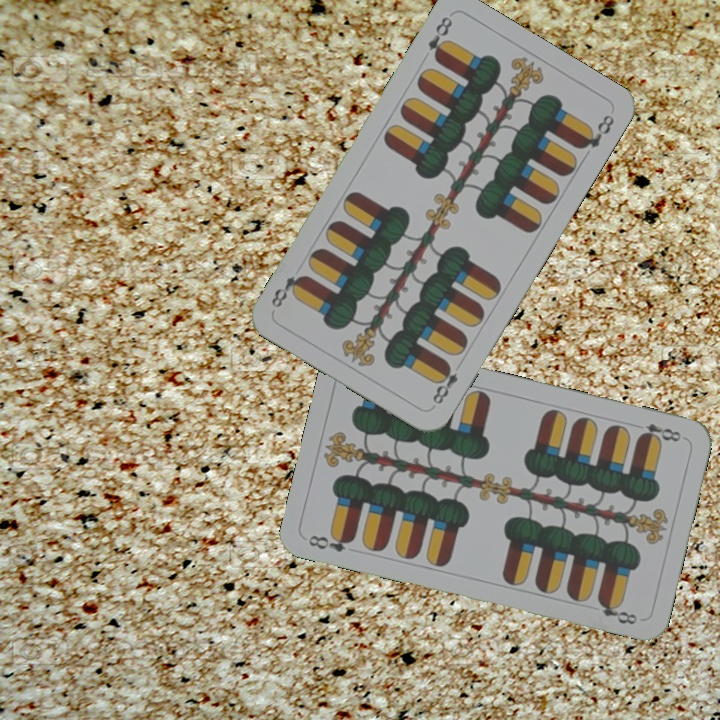E8: (424, 12, 456, 64), (428, 359, 461, 407), (304, 528, 358, 555), (634, 419, 684, 446)
